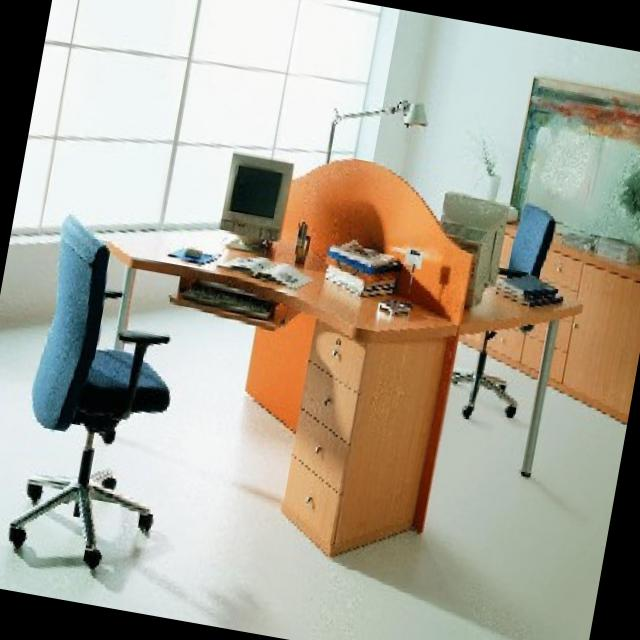2001: (15, 0, 383, 234)
books crop: (323, 237, 401, 298), (495, 273, 561, 307)
bottom of chair: (455, 349, 521, 419)
cabinet door: (484, 222, 640, 416)
chair -occluded-: (11, 212, 172, 569), (509, 200, 557, 273)
cup and saucer: (296, 217, 312, 267)
desk calendar: (105, 232, 453, 555), (462, 273, 584, 475)
desk lamp: (245, 157, 475, 533)
fish: (510, 75, 640, 255)
floor -X: (0, 291, 625, 640)
keyboard crop: (182, 277, 274, 321)
lamp crop: (326, 101, 429, 165)
magazine holder: (219, 254, 313, 287)
monitor crop: (442, 189, 512, 307), (221, 148, 296, 252)
mouse: (172, 243, 222, 260)
mouse pad: (187, 246, 206, 255)
plant -x: (482, 134, 495, 168)
vase -X: (486, 171, 502, 199)
wall clock: (379, 15, 640, 420)
